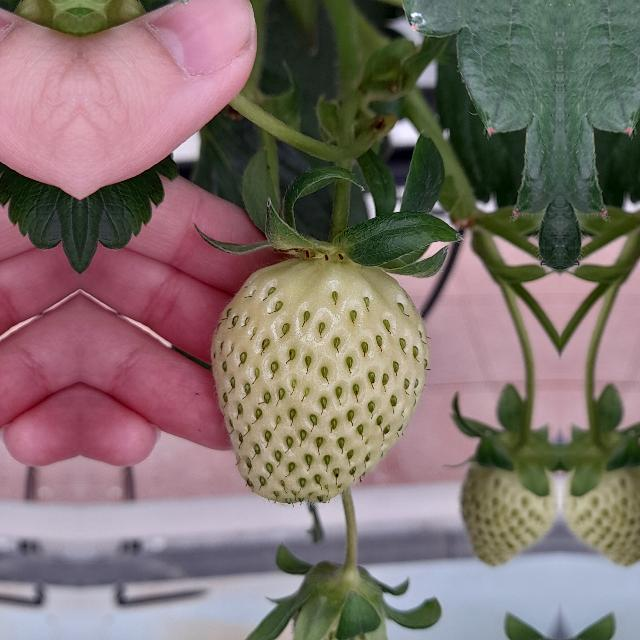Health_25: (212, 251, 428, 504), (458, 445, 560, 571), (560, 445, 640, 571)
